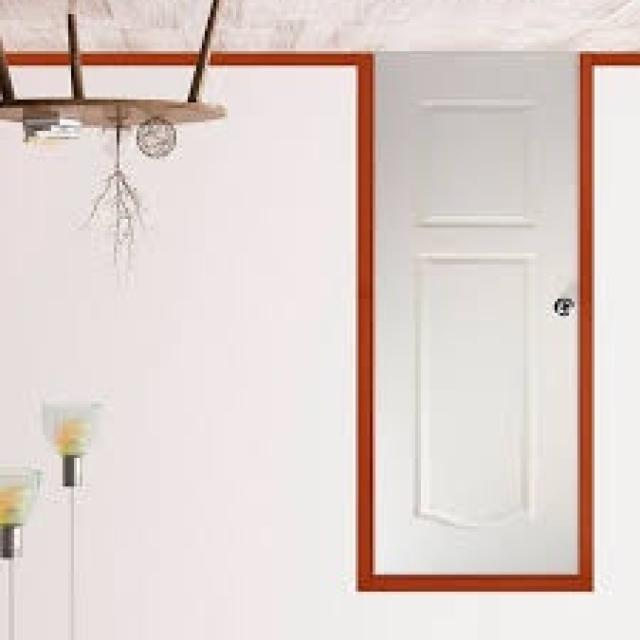door: (370, 51, 583, 586)
